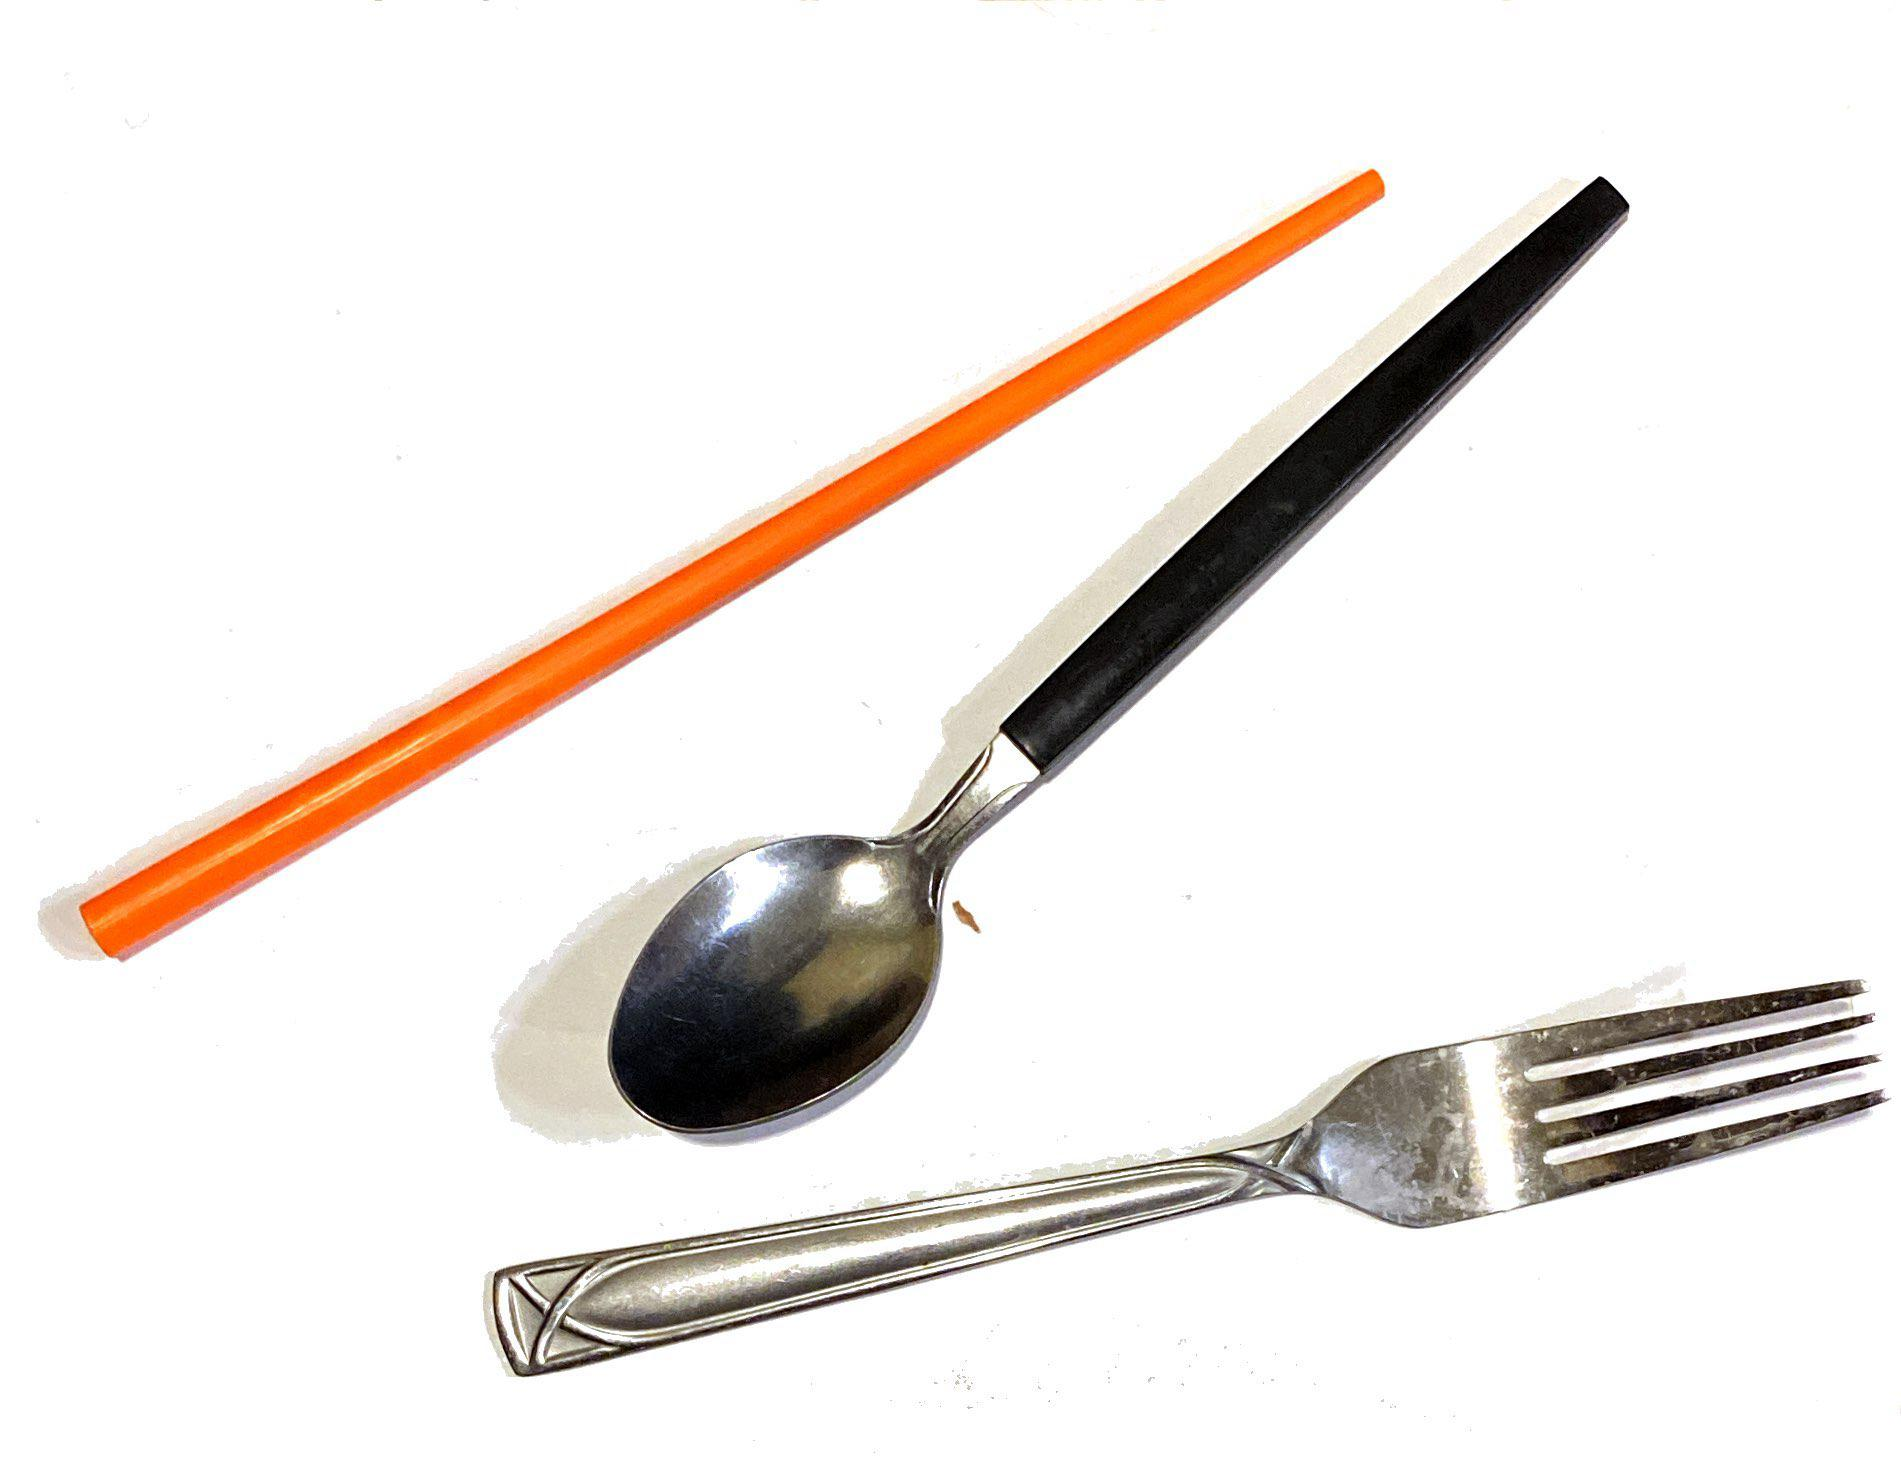Chopstick: (2, 135, 1407, 981)
Fork: (441, 946, 1889, 1439)
Spoon: (596, 155, 1698, 1182)
